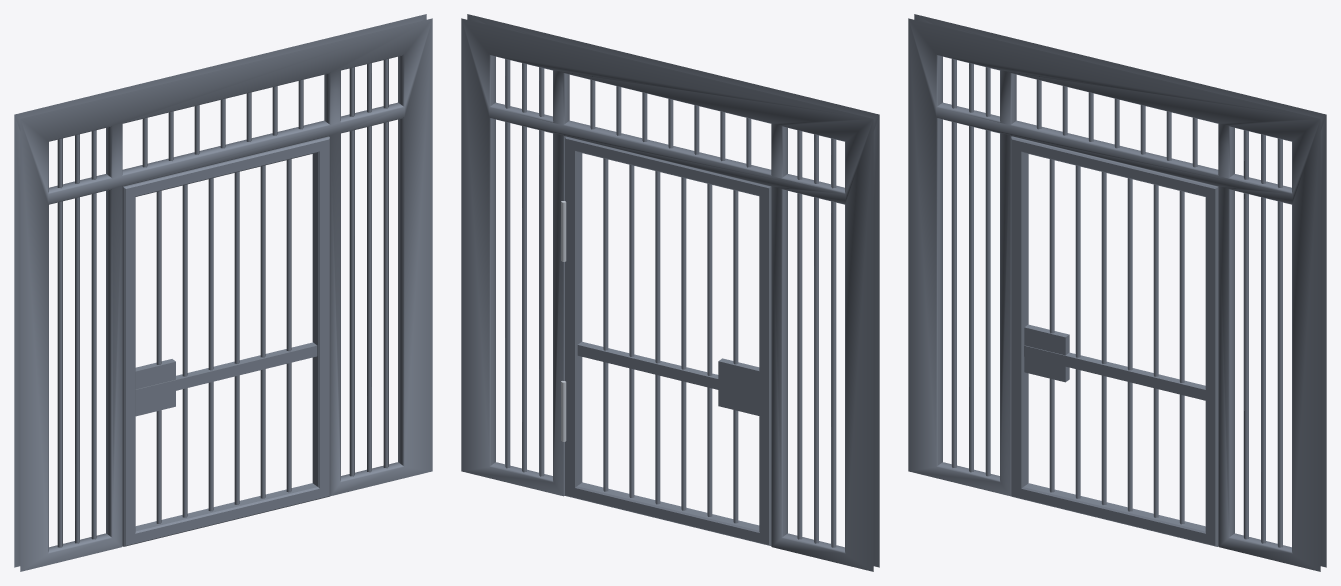
The model's file is door_barred.fbx.
3 renders of one model, left to right at view 1: azimuth 30°, elevation 25°; view 2: azimuth 150°, elevation 25°; view 3: azimuth 330°, elevation 25°, orthographic.
Visible parts, largest first — view 1: Group1, doorframe, bars, bars1, crossbeam; view 2: Group1, doorframe, bars, bars1, crossbeam; view 3: Group1, doorframe, bars, bars1, crossbeam.
Part boxes in pixels (bbox=[...]): Group1: bbox=[14, 14, 432, 571]; doorframe: bbox=[122, 136, 329, 546]; bars: bbox=[57, 59, 388, 547]; bars1: bbox=[156, 159, 291, 523]; crossbeam: bbox=[135, 342, 317, 416]; Group1: bbox=[461, 14, 879, 571]; doorframe: bbox=[565, 136, 771, 545]; bars: bbox=[505, 59, 836, 547]; bars1: bbox=[603, 158, 738, 523]; crossbeam: bbox=[577, 341, 759, 415]; Group1: bbox=[908, 14, 1326, 571]; doorframe: bbox=[1011, 136, 1218, 546]; bars: bbox=[951, 59, 1282, 547]; bars1: bbox=[1049, 159, 1184, 524]; crossbeam: bbox=[1024, 324, 1205, 400].
Size of the model in its own units: 2.4 by 2.52 by 0.0872.
